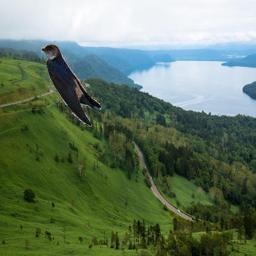Swallow: (41, 44, 121, 130)
